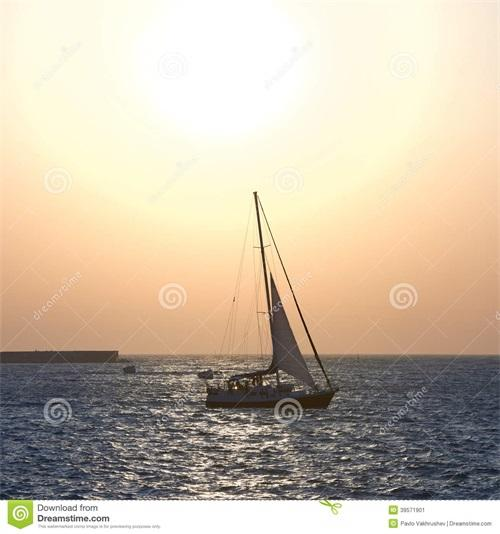Ship: (209, 193, 340, 413)
